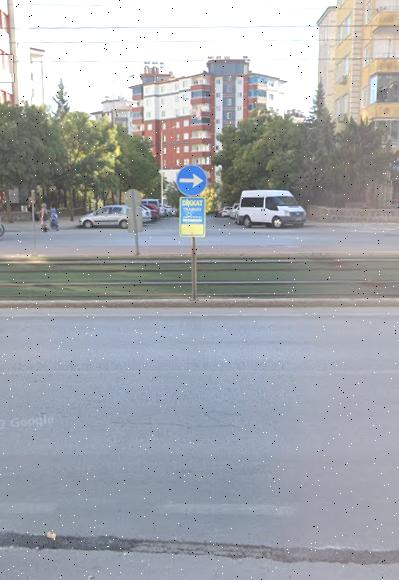turnright: (176, 165, 207, 194)
